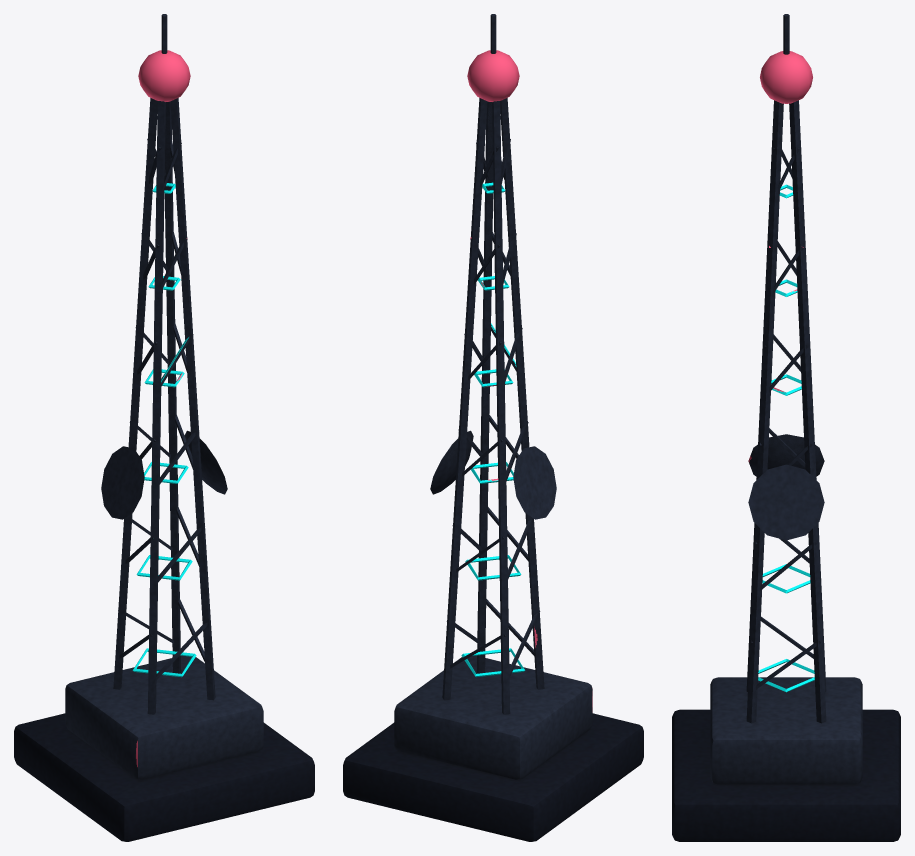
Rendered from roof_antenna.fbx.
3 views of the same model, side by side, from view 1: azimuth 30°, elevation 25°; view 2: azimuth 150°, elevation 25°; view 3: azimuth 270°, elevation 25° (orthographic).
Visible parts, largest first — view 1: roof_antenna, roof_antenna_glow2, roof_antenna_glow; view 2: roof_antenna, roof_antenna_glow2, roof_antenna_glow; view 3: roof_antenna, roof_antenna_glow2, roof_antenna_glow.
Boxes of the visible parts, bbox=[...] form: roof_antenna: bbox=[14, 14, 314, 841]; roof_antenna_glow2: bbox=[138, 50, 190, 101]; roof_antenna_glow: bbox=[132, 183, 196, 677]; roof_antenna: bbox=[343, 14, 643, 841]; roof_antenna_glow2: bbox=[467, 50, 519, 101]; roof_antenna_glow: bbox=[461, 182, 525, 677]; roof_antenna: bbox=[672, 14, 900, 841]; roof_antenna_glow2: bbox=[760, 51, 812, 103]; roof_antenna_glow: bbox=[758, 184, 814, 692].
Size of the model in its own units: 600 by 2260 by 600.
Materials: 1 (1 with a texture image).
